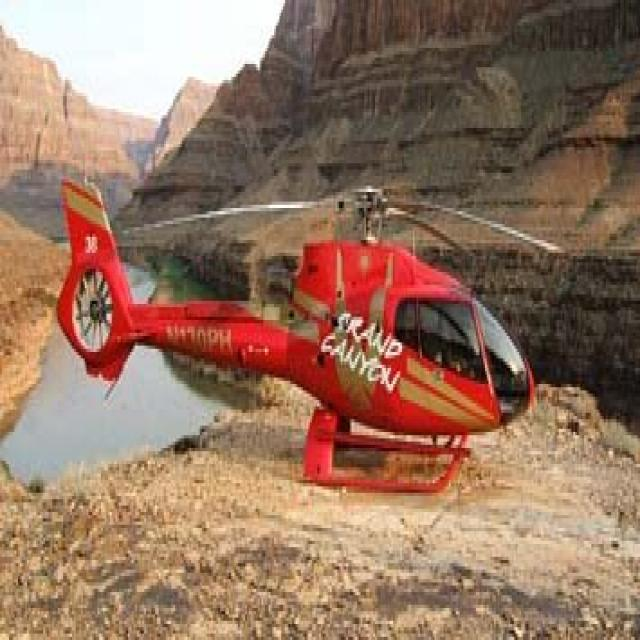helicopter: (37, 94, 573, 542)
